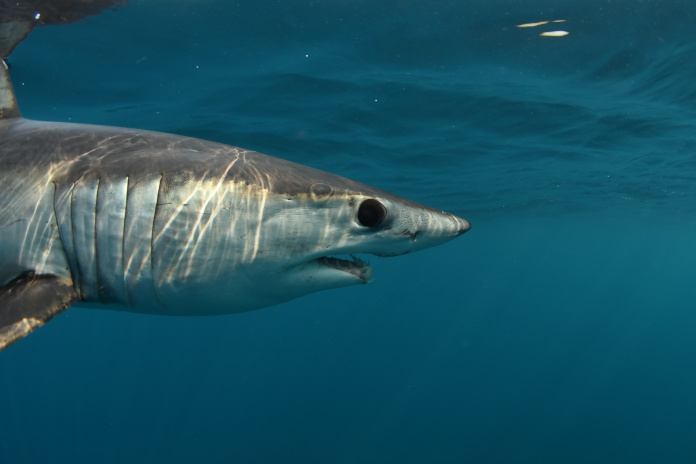Mako: (1, 54, 476, 358)
